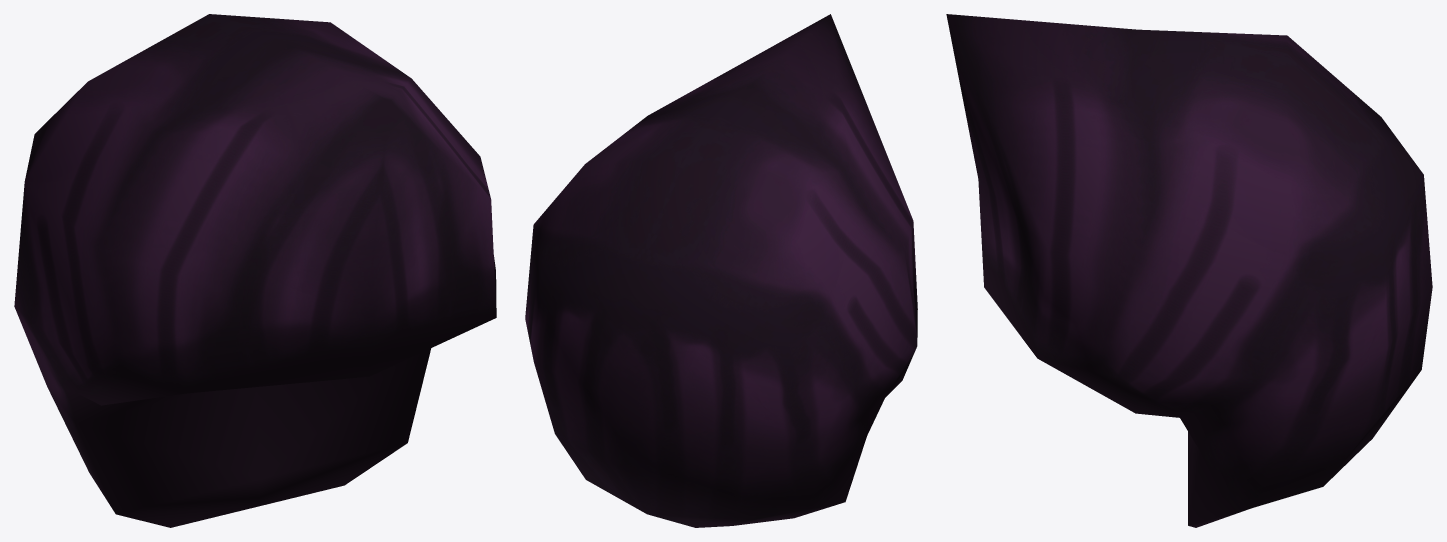
Rendered from character_Head04.FBX.
3 views of the same model, side by side, from view 1: azimuth 30°, elevation 25°; view 2: azimuth 150°, elevation 25°; view 3: azimuth 270°, elevation 25° (orthographic). The views are drawn at different scales.
Parts seen in each view (by area): view 1: Sphere126; view 2: Sphere126; view 3: Sphere126.
Part boxes in pixels (x1,y1,x2,y2): Sphere126: (14, 14, 496, 527); Sphere126: (525, 14, 917, 527); Sphere126: (946, 14, 1432, 527).
Size of the model in its own units: 35.74 by 43.06 by 39.39.
